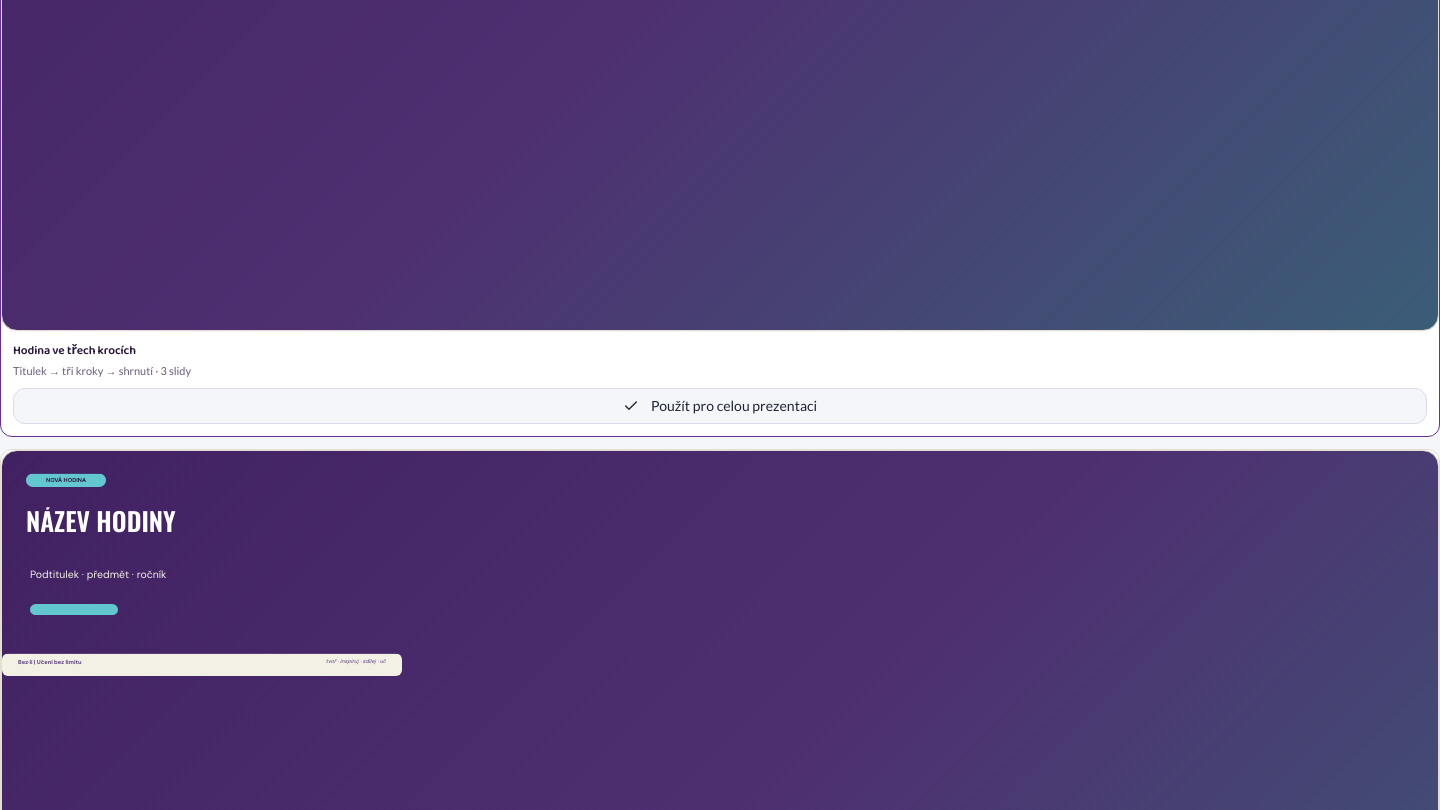
Test: Etapa 5 – datové šablony › nahrazení obsahu celou sadou vyžaduje potvrzení
The image size is (1440, 810).
Later steps or results of the test are not shown.
(page scrolled)
Click the button "Použít pro celou prezentaci": (720, 406) [13,388,1427,424]
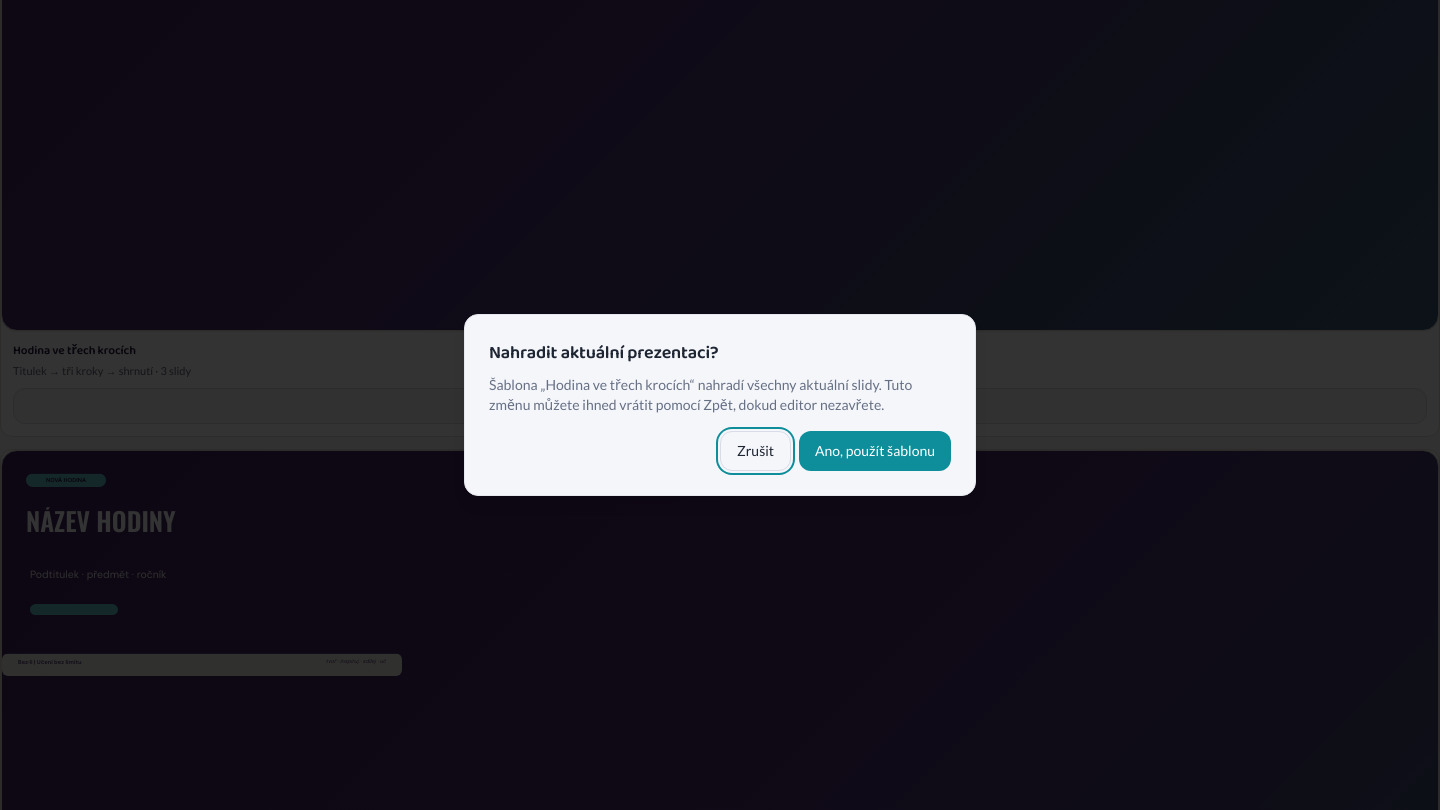
Result: the heading "Nahradit aktuální prezentaci?" is shown at [489,339,718,367]
